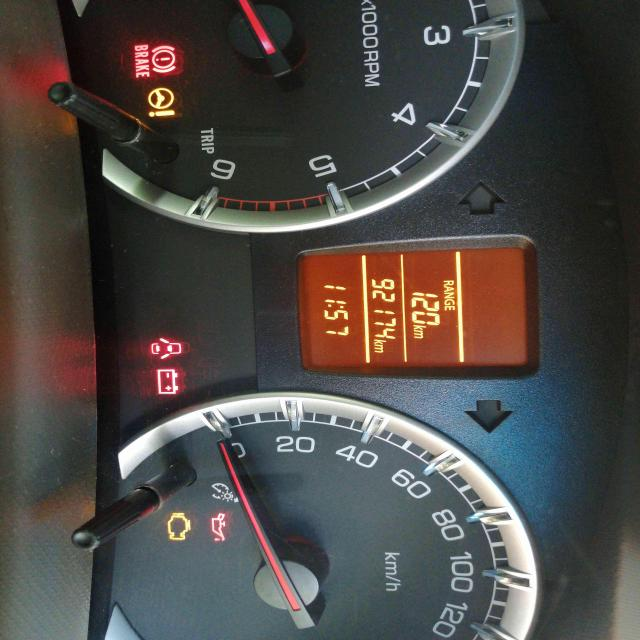Braking System Issue: (133, 43, 178, 79)
Charging System Issue: (155, 368, 180, 396)
Check Engine: (166, 511, 193, 543)
Low Engine Oil Warning Light: (210, 513, 228, 542)
